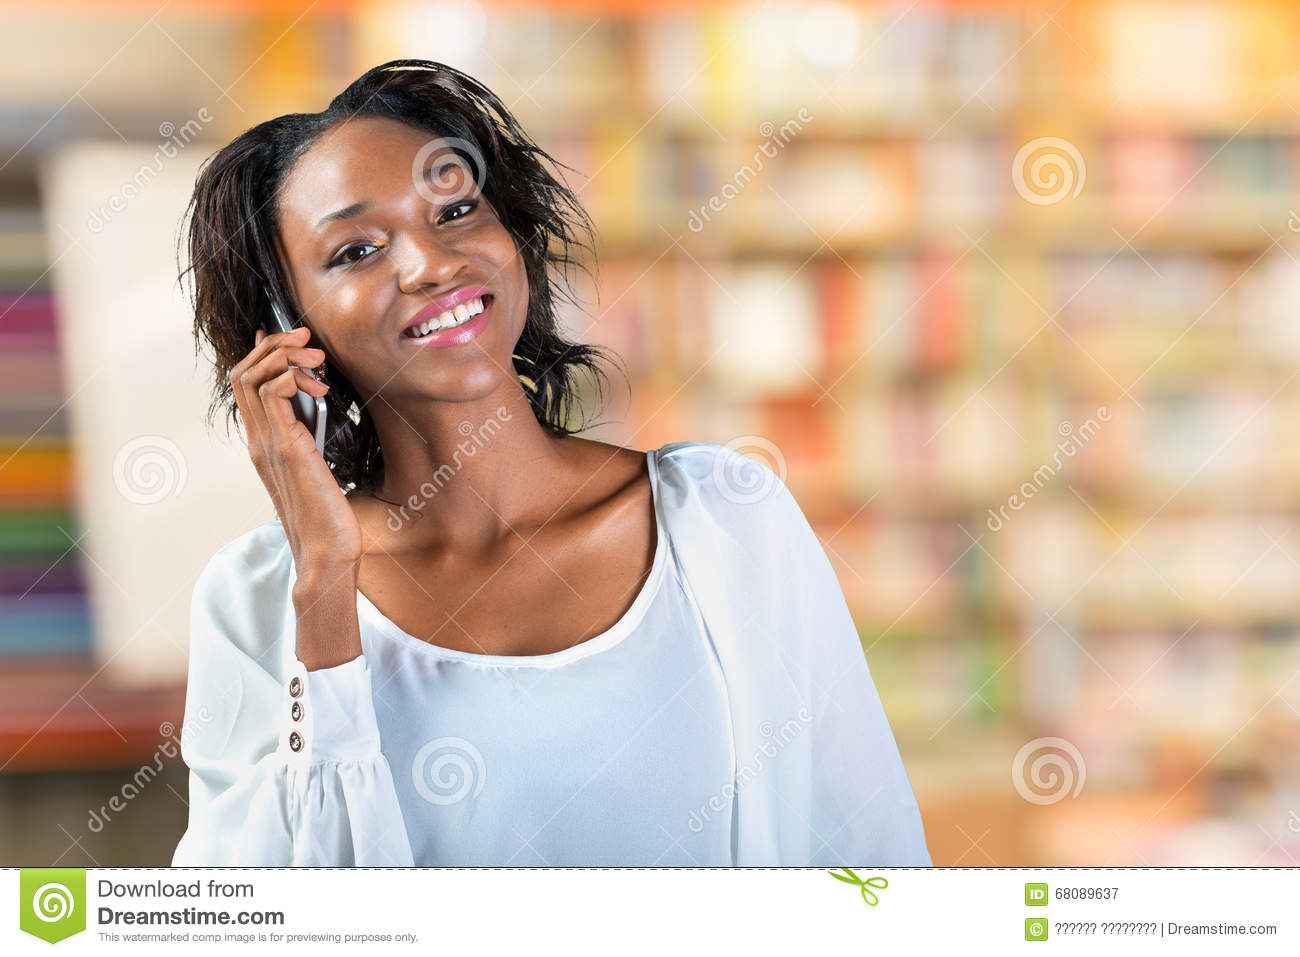phone: (260, 283, 330, 470)
talk: (235, 162, 529, 587)
